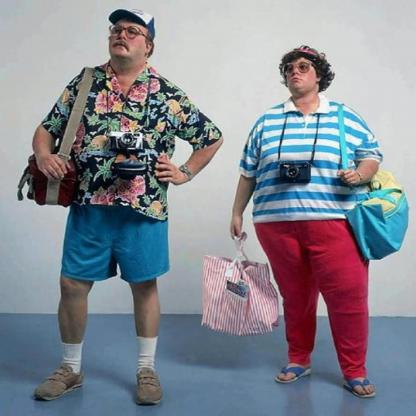face: (286, 53, 320, 92), (109, 19, 142, 56)
